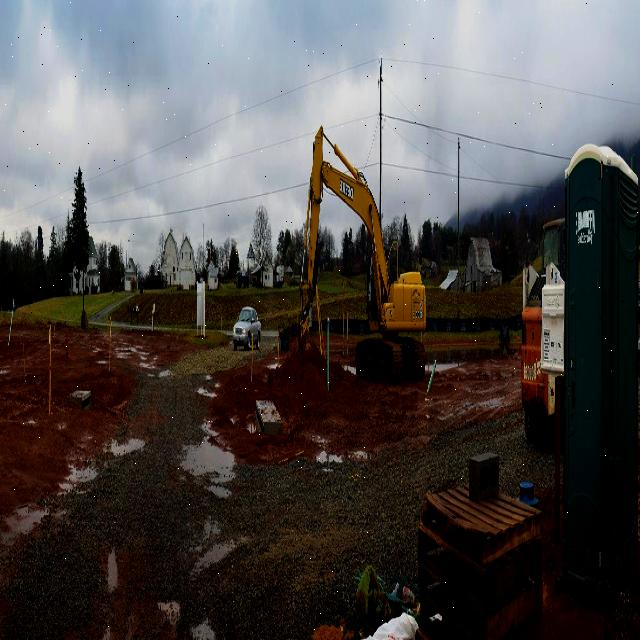Excavator: (278, 120, 426, 390)
